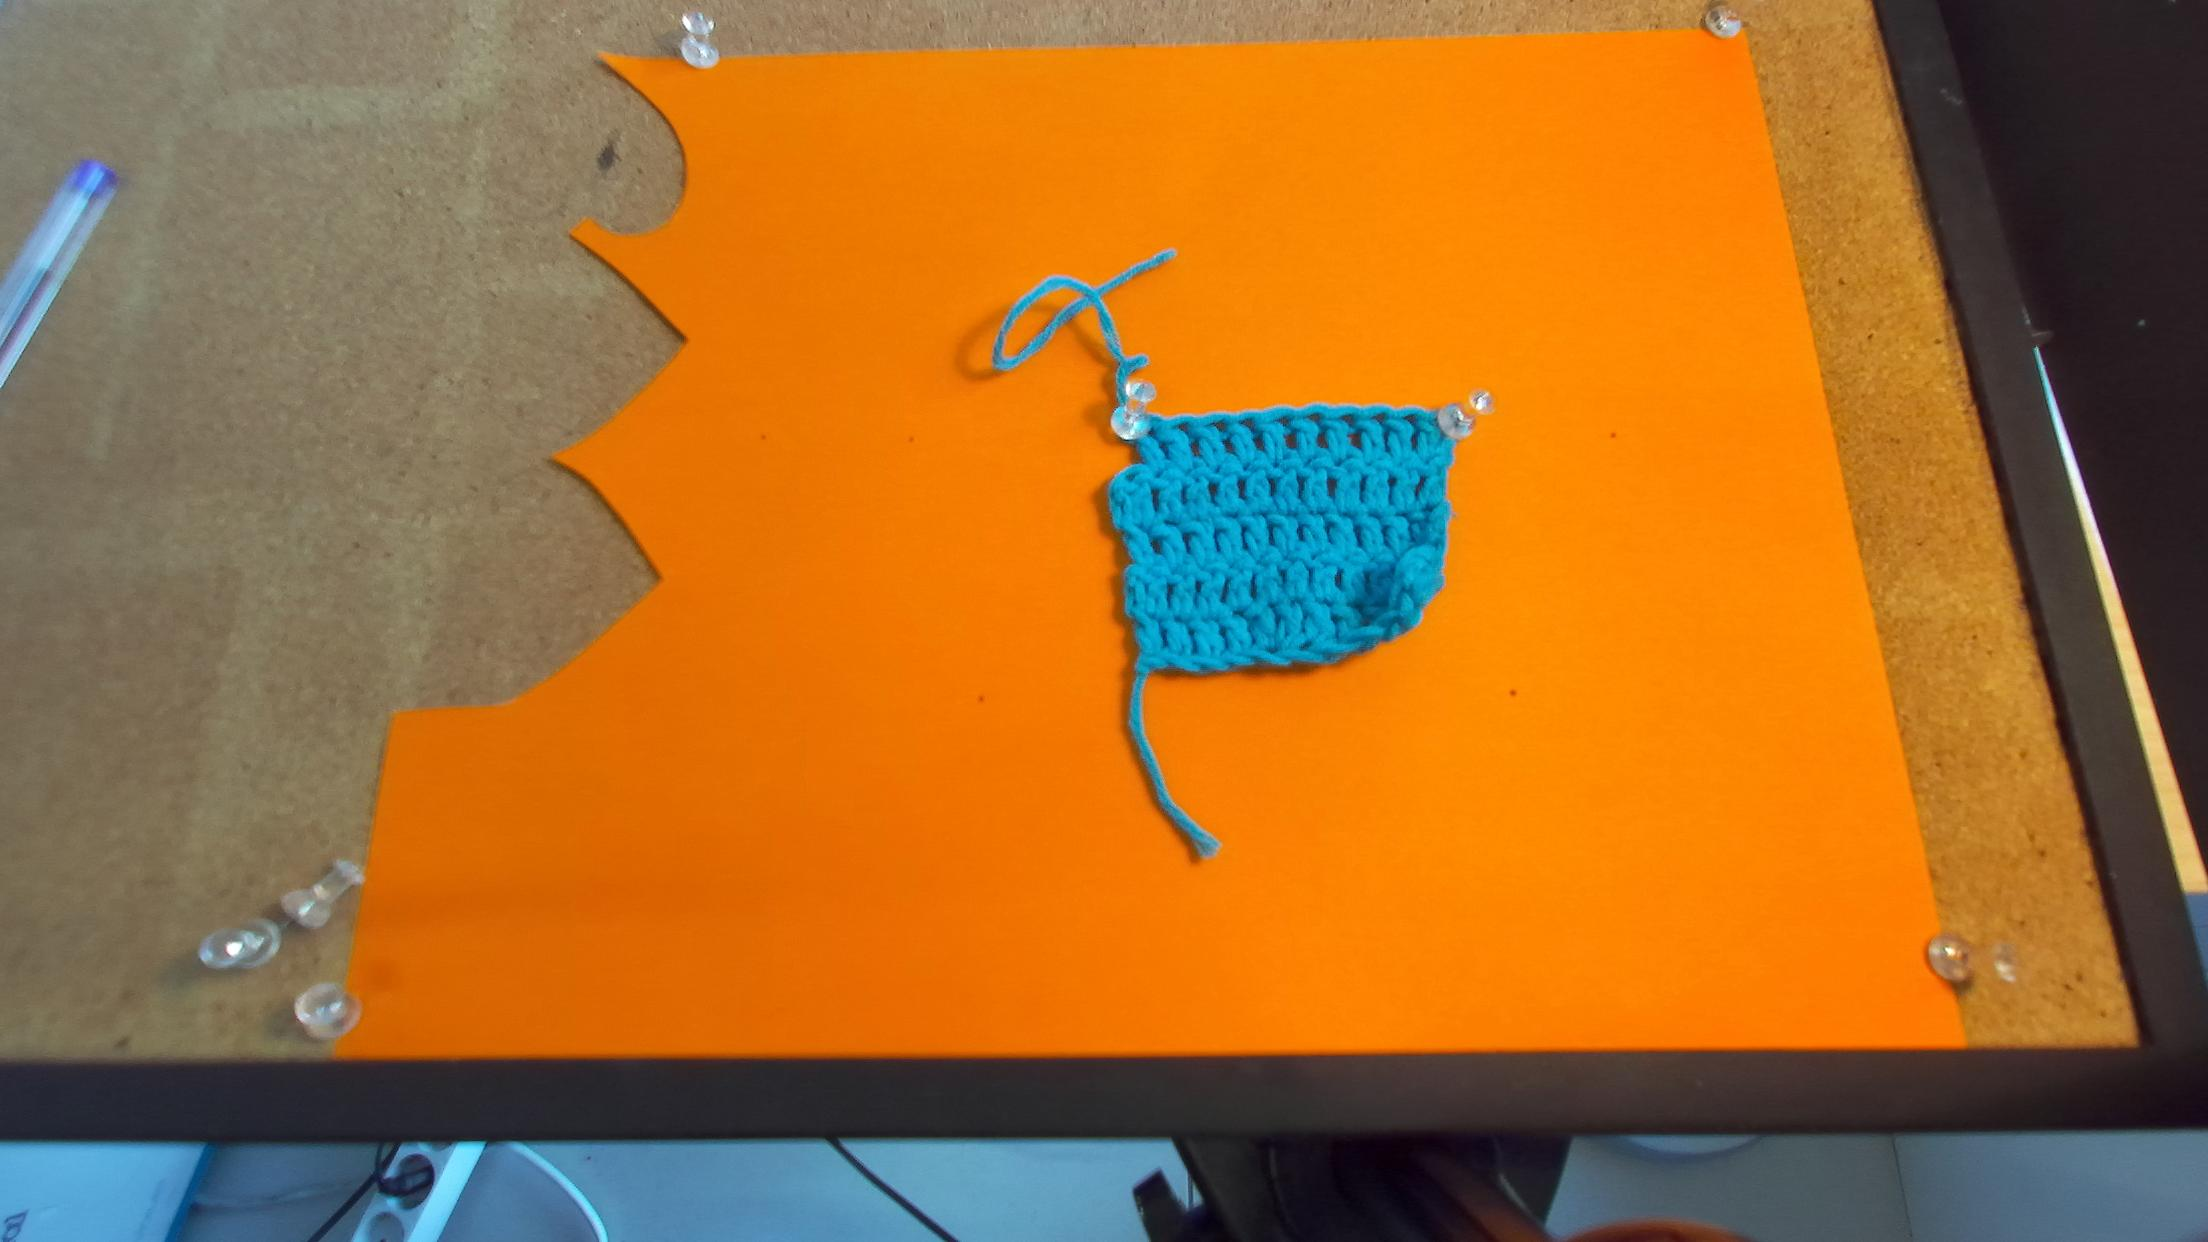hole: (1303, 411, 1322, 426), (1206, 420, 1227, 432), (1338, 414, 1354, 428), (1239, 419, 1254, 432), (1369, 412, 1386, 425), (1401, 414, 1418, 426), (1174, 423, 1189, 434), (1274, 416, 1289, 426), (1145, 426, 1154, 438)
swatch: (1102, 406, 1471, 679)
